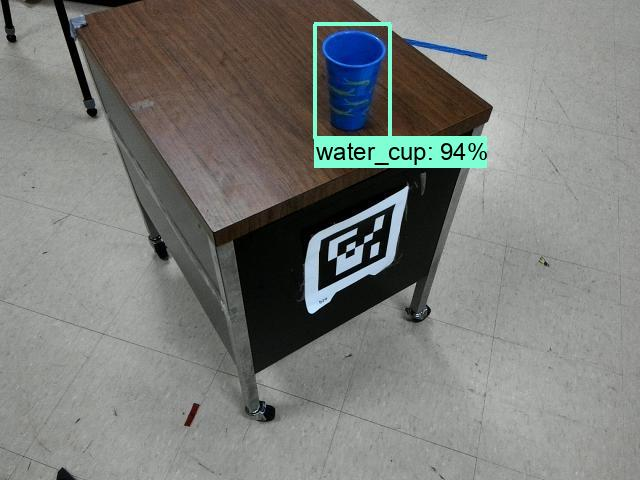water_cup: (313, 24, 387, 139)
